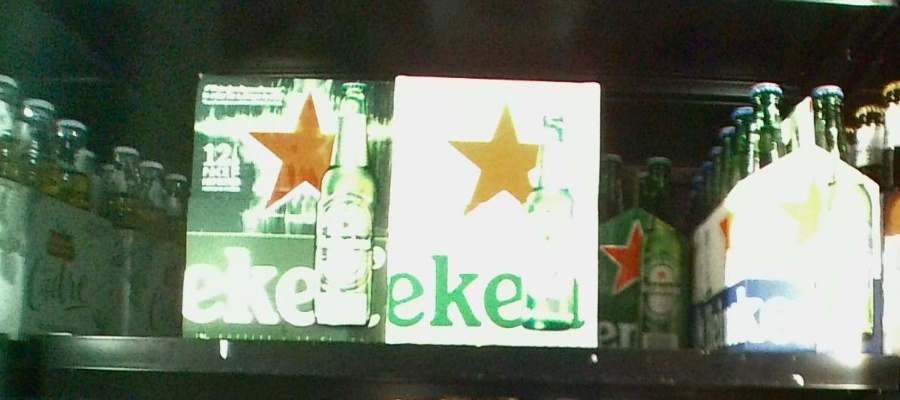bottle: (395, 72, 600, 348), (188, 70, 387, 339), (733, 83, 881, 351), (604, 152, 685, 351)
